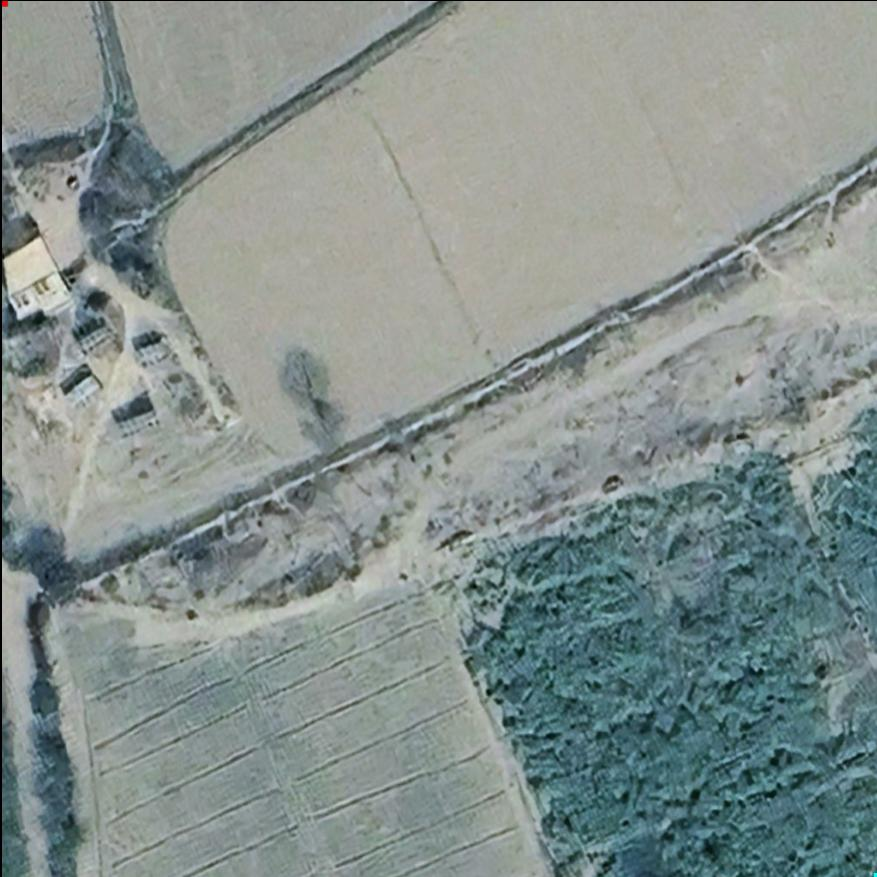Solarpanel: (113, 408, 161, 441), (62, 373, 101, 411), (77, 325, 117, 356), (135, 339, 170, 369)
